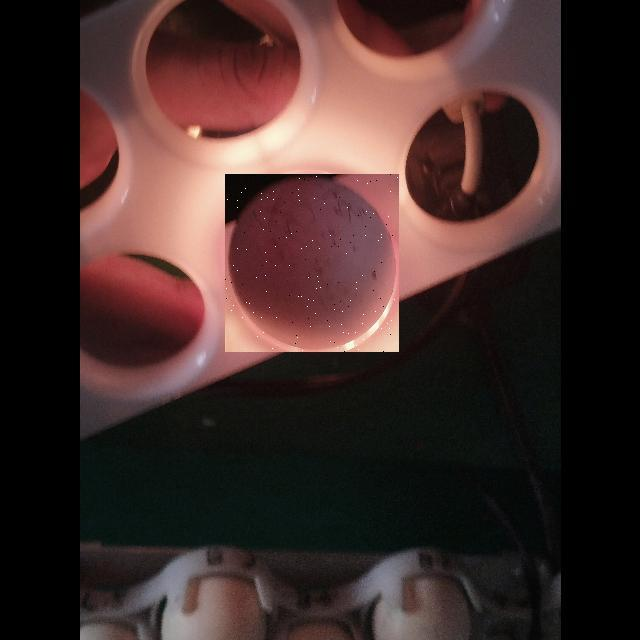B - Fair: (225, 174, 399, 352)
